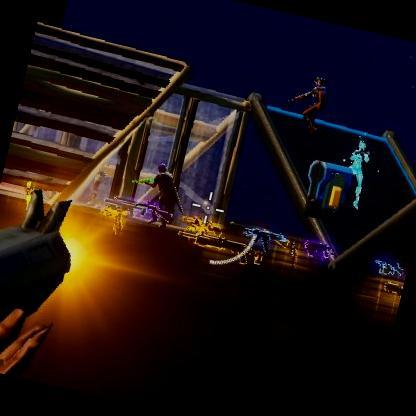person: (132, 158, 194, 220), (280, 71, 334, 138)
